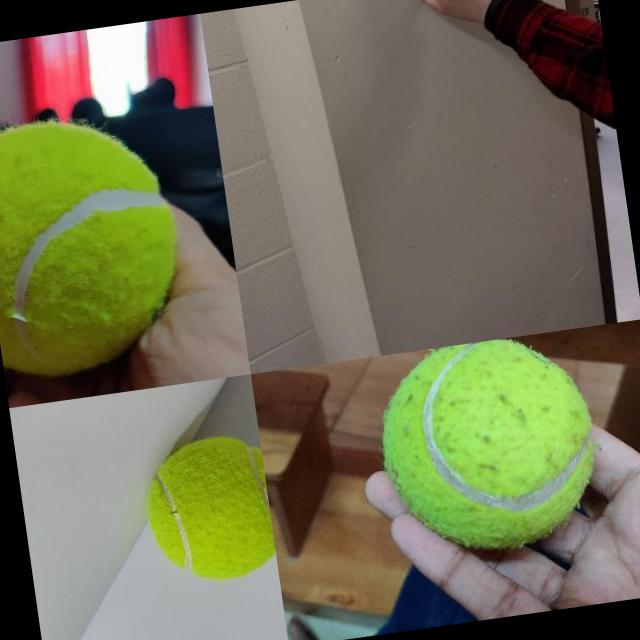Tennis Ball: (368, 328, 609, 566), (0, 105, 193, 381), (137, 428, 279, 592)
